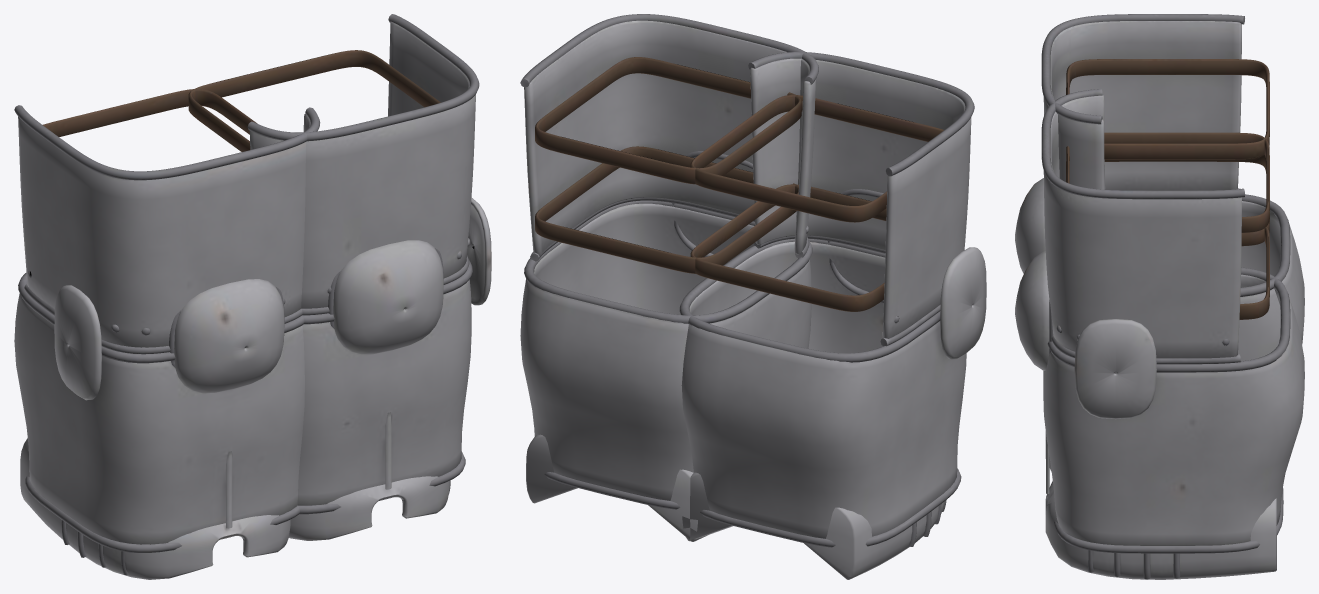
The model's file is iron_greaves.fbx.
The picture shows the model from 3 angles, left to right: view 1: azimuth 30°, elevation 25°; view 2: azimuth 150°, elevation 25°; view 3: azimuth 270°, elevation 25°; orthographic projection. The views are drawn at different scales.
Visible parts, largest first — view 1: RightLowerLeg, RightUpperLeg, LeftLowerLeg, LeftUpperLeg, RightFoot, LeftFoot; view 2: RightLowerLeg, LeftUpperLeg, LeftLowerLeg, RightUpperLeg, RightFoot, LeftFoot; view 3: LeftLowerLeg, LeftUpperLeg, RightUpperLeg, RightLowerLeg, LeftFoot.
Boxes of the visible parts, bbox=[...] form: RightLowerLeg: bbox=[14, 272, 304, 552]; RightUpperLeg: bbox=[14, 89, 320, 354]; LeftLowerLeg: bbox=[297, 197, 491, 514]; LeftUpperLeg: bbox=[188, 14, 479, 315]; RightFoot: bbox=[20, 438, 290, 579]; LeftFoot: bbox=[289, 476, 450, 540]; RightLowerLeg: bbox=[679, 189, 986, 547]; LeftUpperLeg: bbox=[520, 14, 818, 273]; LeftLowerLeg: bbox=[520, 151, 812, 509]; RightUpperLeg: bbox=[690, 52, 974, 346]; RightFoot: bbox=[682, 472, 946, 579]; LeftFoot: bbox=[526, 434, 707, 541]; LeftLowerLeg: bbox=[1015, 251, 1304, 553]; LeftUpperLeg: bbox=[1041, 89, 1269, 364]; RightUpperLeg: bbox=[1041, 14, 1269, 246]; RightLowerLeg: bbox=[1015, 178, 1304, 361]; LeftFoot: bbox=[1045, 481, 1276, 579].
Bounding box in the file's own units: 2.58 × 2.53 × 1.66.
1 material, 1 textured.
